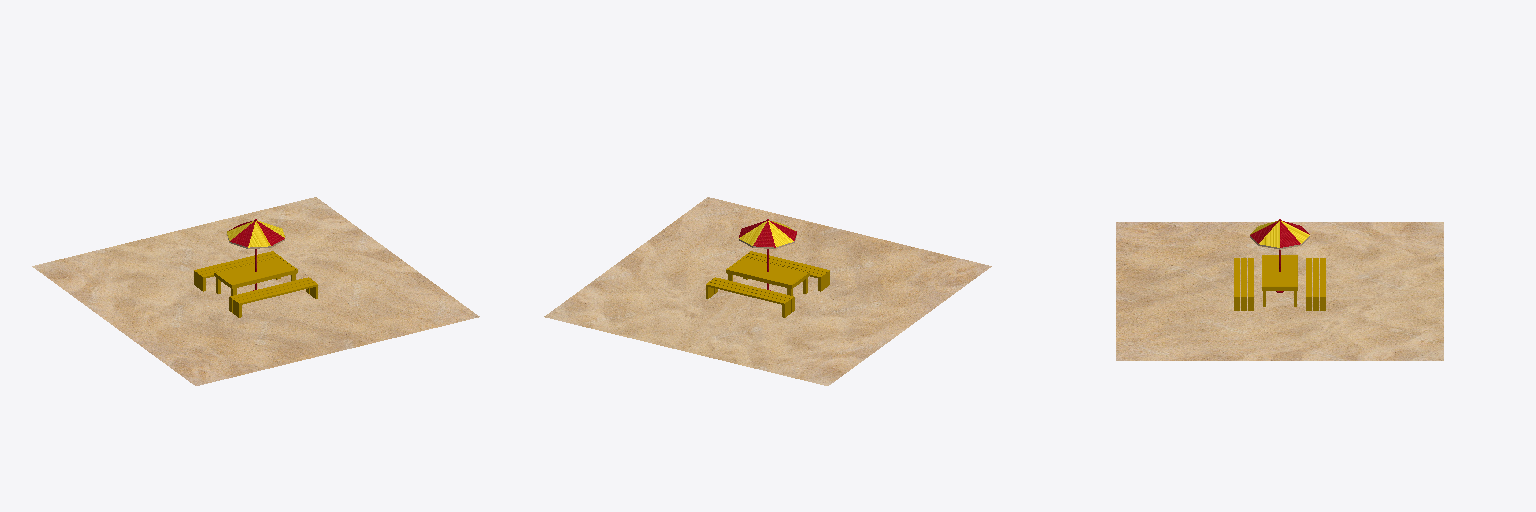
The picture shows the model from 3 angles: view 1: azimuth 30°, elevation 25°; view 2: azimuth 150°, elevation 25°; view 3: azimuth 270°, elevation 25°; orthographic projection.
Parts seen in each view (by area): view 1: Sand_Plane, Material.007, Umbrella_Cylinder.001; view 2: Sand_Plane, Material.007, Umbrella_Cylinder.001; view 3: Sand_Plane, Material.007, Umbrella_Cylinder.001.
Part boxes in pixels (left/top/right/bottom): Sand_Plane: left=32, top=197, right=479, bottom=385; Material.007: left=194, top=251, right=317, bottom=317; Umbrella_Cylinder.001: left=227, top=219, right=284, bottom=290; Sand_Plane: left=544, top=197, right=991, bottom=385; Material.007: left=706, top=251, right=829, bottom=317; Umbrella_Cylinder.001: left=739, top=219, right=796, bottom=290; Sand_Plane: left=1116, top=222, right=1443, bottom=360; Material.007: left=1234, top=255, right=1325, bottom=310; Umbrella_Cylinder.001: left=1250, top=219, right=1309, bottom=292.
Bounding box in the file's own units: 37.96 × 9.3 × 37.96.
7 materials, 3 textured.